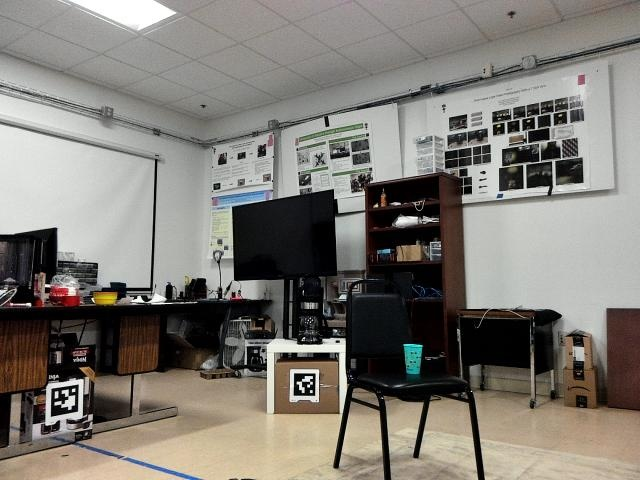coffee_cup: (402, 340, 424, 377)
